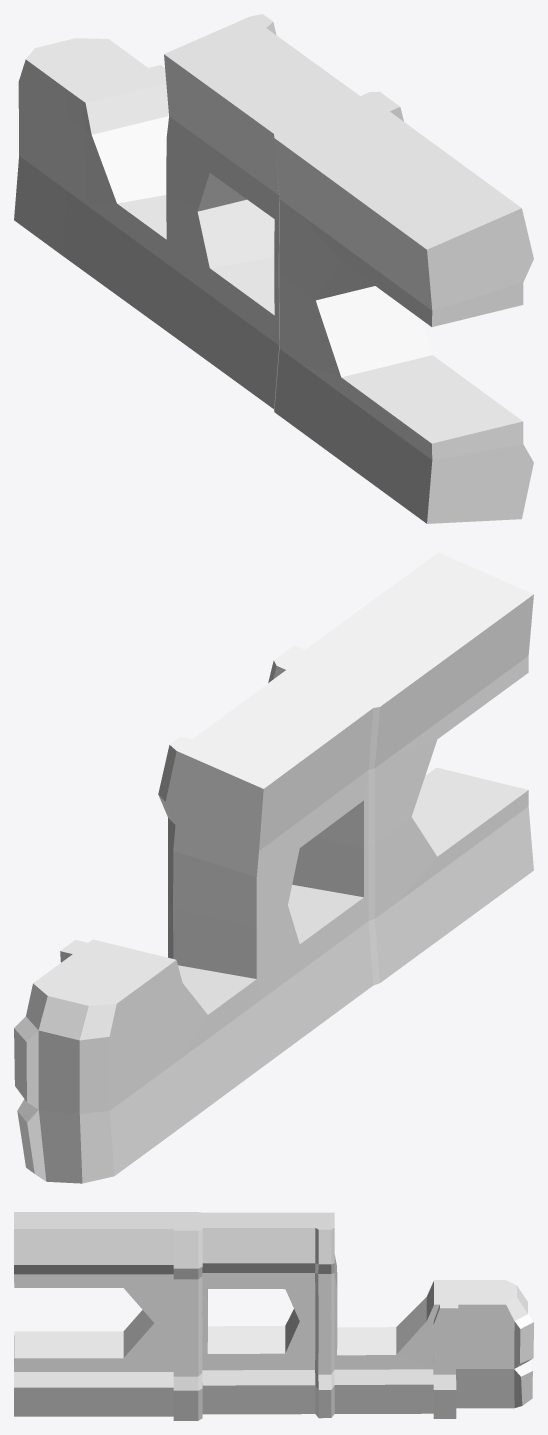
The model's file is venice_col_1.fbx.
3 renders of one model, top to bottom at view 1: azimuth 30°, elevation 25°; view 2: azimuth 150°, elevation 25°; view 3: azimuth 270°, elevation 25°, orthographic. The views are drawn at different scales.
Visible parts, largest first — view 1: Cube.368; view 2: Cube.368; view 3: Cube.368.
Boxes of the visible parts, <box> form: Cube.368: <box>14,14,533,523</box>; Cube.368: <box>14,552,533,1183</box>; Cube.368: <box>14,1212,533,1420</box>.
Size of the model in its own units: 536 by 1359 by 3368.
